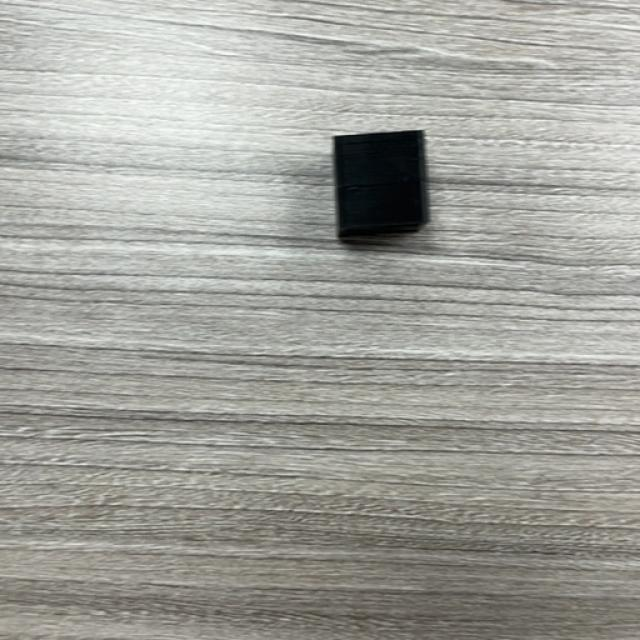Negro: (331, 130, 430, 242)
